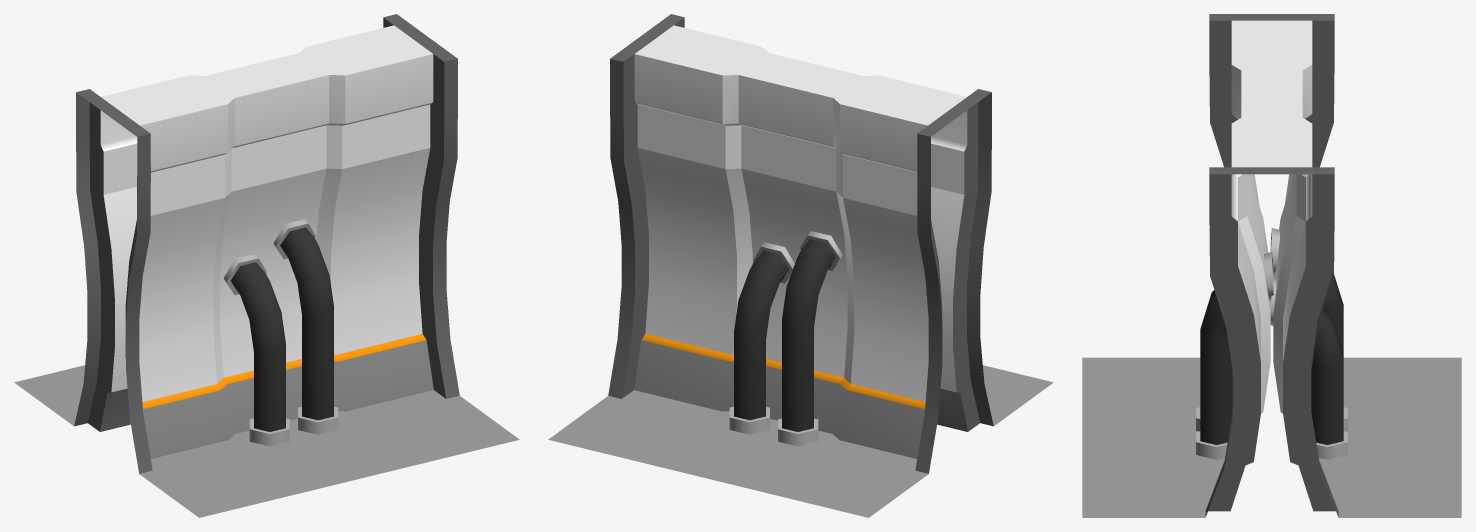
File: SM_InteriorWall_03.fbx
3 renders of one model, left to right at view 1: azimuth 30°, elevation 25°; view 2: azimuth 150°, elevation 25°; view 3: azimuth 270°, elevation 25°, orthographic. The views are drawn at different scales.
Parts seen in each view (by area): view 1: SM_InteriorWall_03; view 2: SM_InteriorWall_03; view 3: SM_InteriorWall_03.
Boxes of the visible parts, box(x1,y1,x2,y2) form: SM_InteriorWall_03: box(14, 14, 519, 517); SM_InteriorWall_03: box(548, 14, 1053, 517); SM_InteriorWall_03: box(1082, 14, 1461, 517).
Bounding box in the file's own units: 200 × 200 × 200.
1 material, 1 textured.
